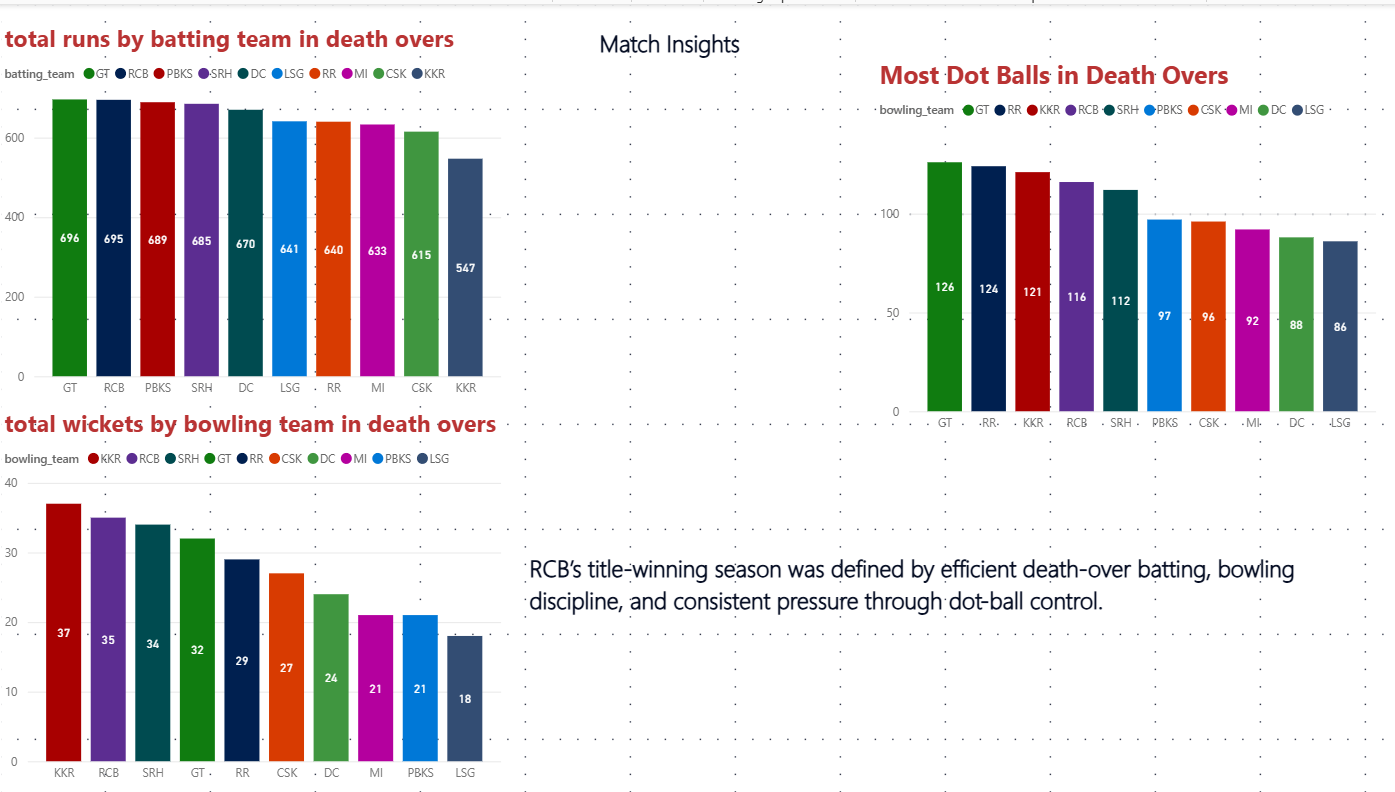

What the dashboard file says about the page in this screenshot:
{"tool":"powerbi","page":{"name":"Match Insights","canvas":[1280,720],"ordinal":4},"visuals":[{"type":"columnChart","title":"total_runs by batting_team and batting_team_in_death_overs","fields":{"Category":["ipl_2026_cleaned.batting_team"],"Y":["Sum(ipl_2026_cleaned.total_runs)"],"Series":["ipl_2026_cleaned.batting_team"]},"box":[0,16,464,352],"z":0},{"type":"columnChart","title":"total wickets by bowling team in death overs","fields":{"Category":["ipl_2026_cleaned.bowling_team"],"Y":["ipl_2026_cleaned.total_wickets"],"Series":["ipl_2026_cleaned.bowling_team"]},"box":[0,368,480,352],"z":1000},{"type":"columnChart","title":"Most Dot Balls in Death Overs","fields":{"Category":["ipl_2026_cleaned.bowling_team"],"Y":["Sum(ipl_2026_cleaned.is_dot_ball)"],"Series":["ipl_2026_cleaned.bowling_team"]},"box":[816,0,464,352],"z":2000},{"type":"textbox","box":[480,496,800,80],"z":3000}]}

Visuals, with their boxes in screenshot pixels (x1, y1, x2, y2), scaled from the page's 1280x720 canvas onto the 1395x792 screenshot:
"total_runs by batting_team and batting_team_in_death_overs" columnChart: <bbox>0, 18, 506, 405</bbox>
"total wickets by bowling team in death overs" columnChart: <bbox>0, 405, 523, 791</bbox>
"Most Dot Balls in Death Overs" columnChart: <bbox>889, 0, 1394, 387</bbox>
textbox: <bbox>523, 546, 1394, 634</bbox>
